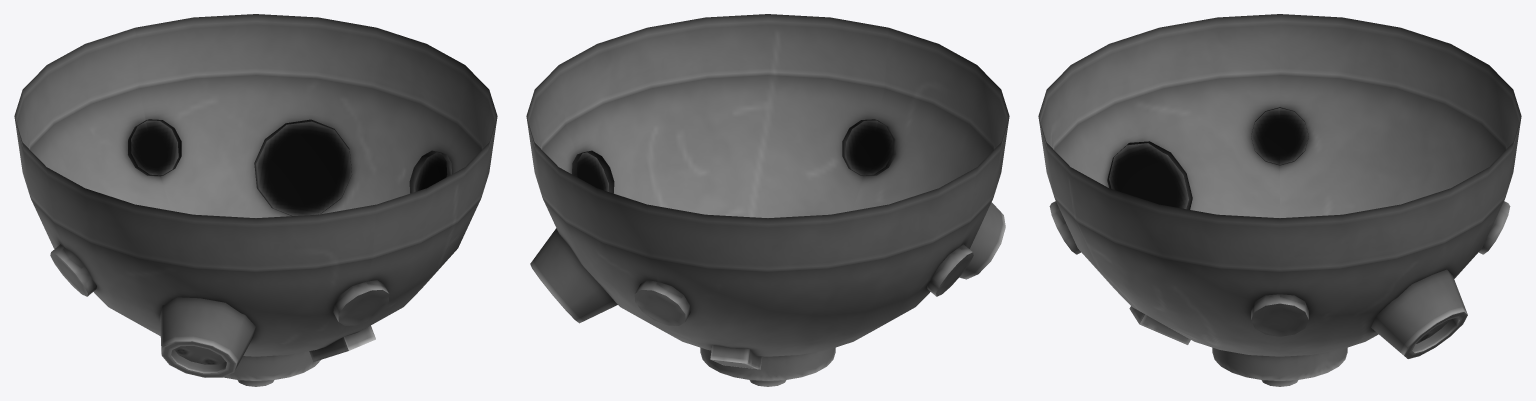
Rendered from core_engine.obj.
3 renders of one model, left to right at view 1: azimuth 30°, elevation 25°; view 2: azimuth 150°, elevation 25°; view 3: azimuth 270°, elevation 25°, orthographic.
Parts seen in each view (by area): view 1: bottom luna; view 2: bottom luna; view 3: bottom luna.
Part boxes in pixels (x1=…): bottom luna: x1=14, y1=14, x2=497, y2=386; bottom luna: x1=526, y1=14, x2=1009, y2=386; bottom luna: x1=1038, y1=14, x2=1521, y2=386.
Bounding box in the file's own units: 0.625 × 0.375 × 0.625.
Materials: 1 (1 with a texture image).
